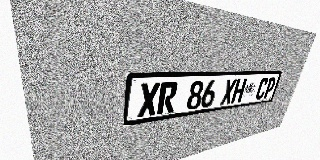6: (199, 79, 218, 108)
8: (185, 80, 205, 110)
C: (254, 77, 269, 100)
H: (231, 78, 247, 103)
P: (262, 77, 277, 99)
R: (157, 81, 178, 115)
X: (138, 82, 160, 118), (220, 79, 237, 105)
